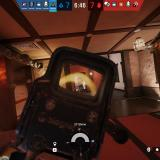Character: (78, 78, 84, 93)
Friend_label: (28, 100, 36, 106)
